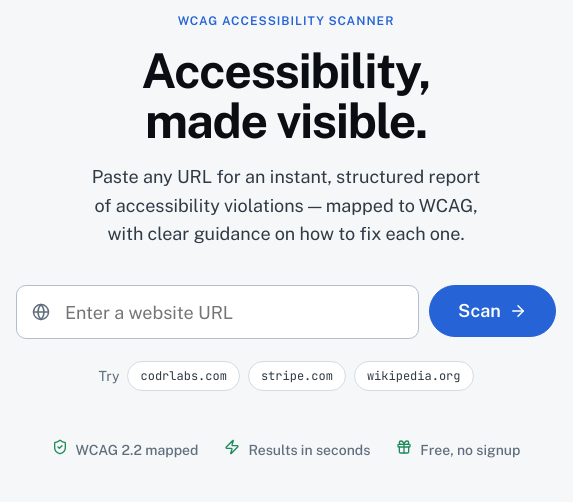
Test case: LandingView › surfaces a scan failure and returns to the idle form
In the field labelled "website URL": (218,312) top-left (16, 285), bottom-right (419, 339), type "example.com"
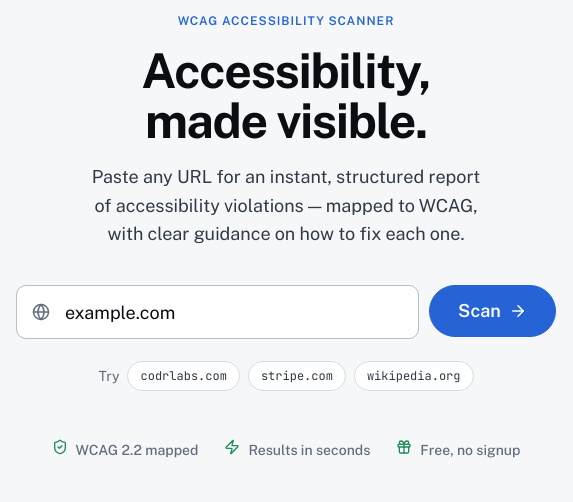
Click the button "Scan": (493,311) top-left (429, 285), bottom-right (556, 337)
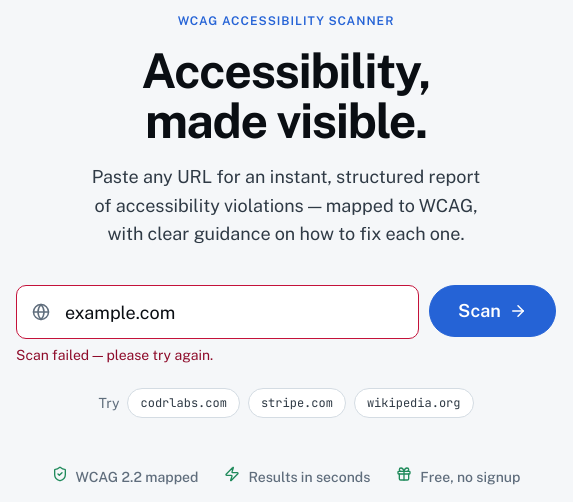
Expected: the field named "website URL" is shown, top-left (16, 285), bottom-right (419, 339)
Expected: the message reads "Scan failed — please try again.", top-left (16, 347), bottom-right (213, 363)
